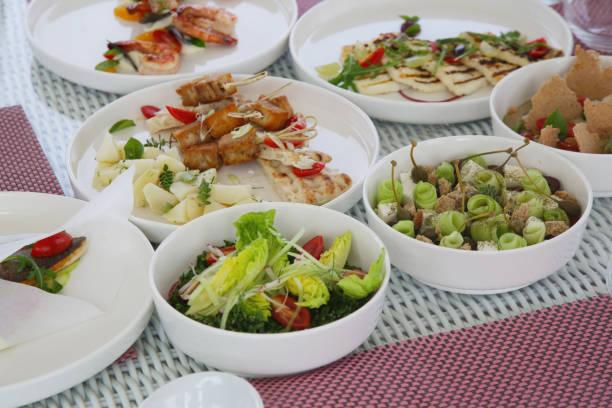Braised Crucian Carp: (67, 76, 375, 243), (147, 203, 391, 372), (361, 136, 588, 293), (292, 0, 570, 125), (26, 1, 293, 92)
